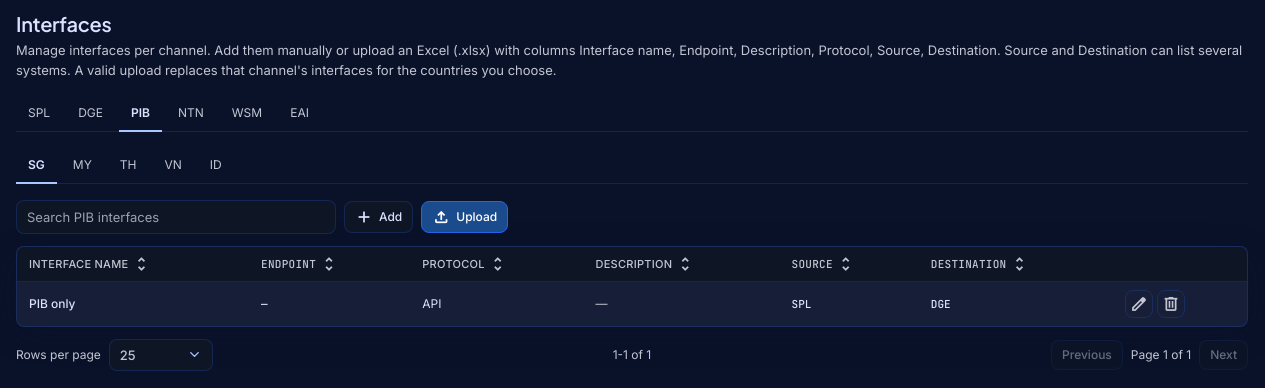
Test case: each tab loads its own interfaces and the tab is kept in the address
Expected: the text "PIB only" is shown, [17,282,249,326]
Click the tab "EAI" at x=300, y=114, box [278,96,321,132]
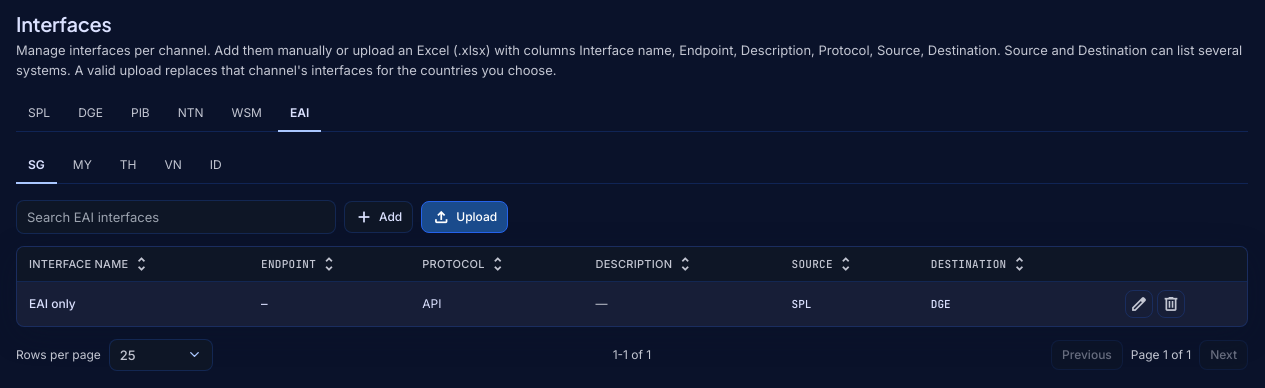
Expected: the text "EAI only" is shown, [17,282,249,326]
Expected: the text "PIB only" is gone
